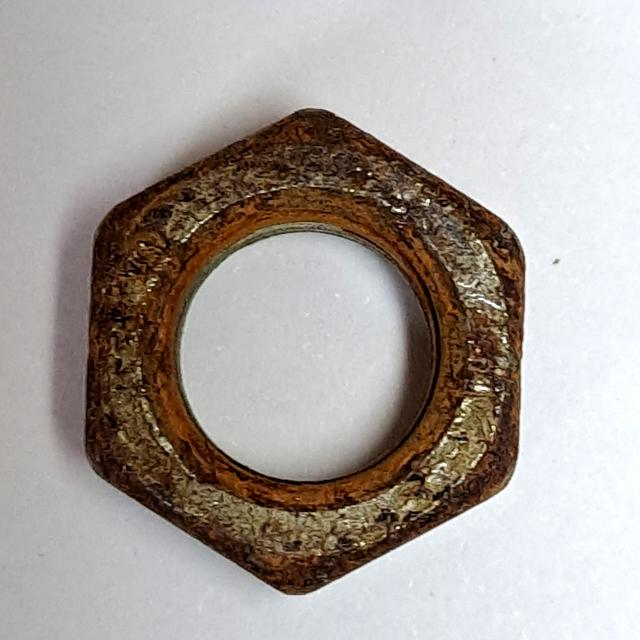Rust: (66, 92, 536, 603)
